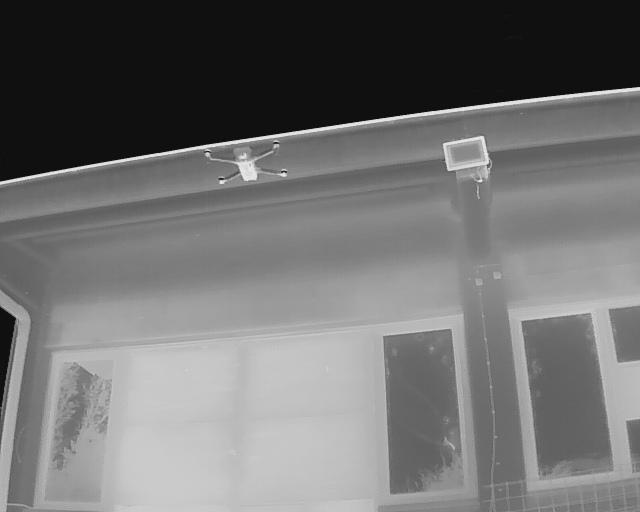drone: (195, 134, 295, 191)
